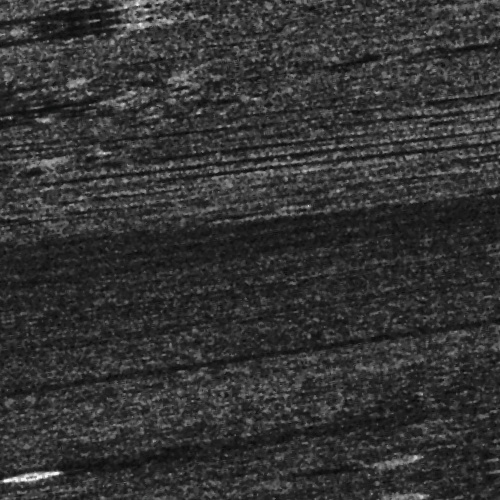object: (0, 430, 52, 443), (332, 472, 405, 481), (158, 0, 199, 1)
shadow: (311, 472, 368, 481), (455, 187, 500, 196), (480, 232, 500, 239), (120, 0, 179, 1)
